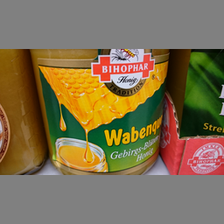honey: (30, 48, 170, 175)
